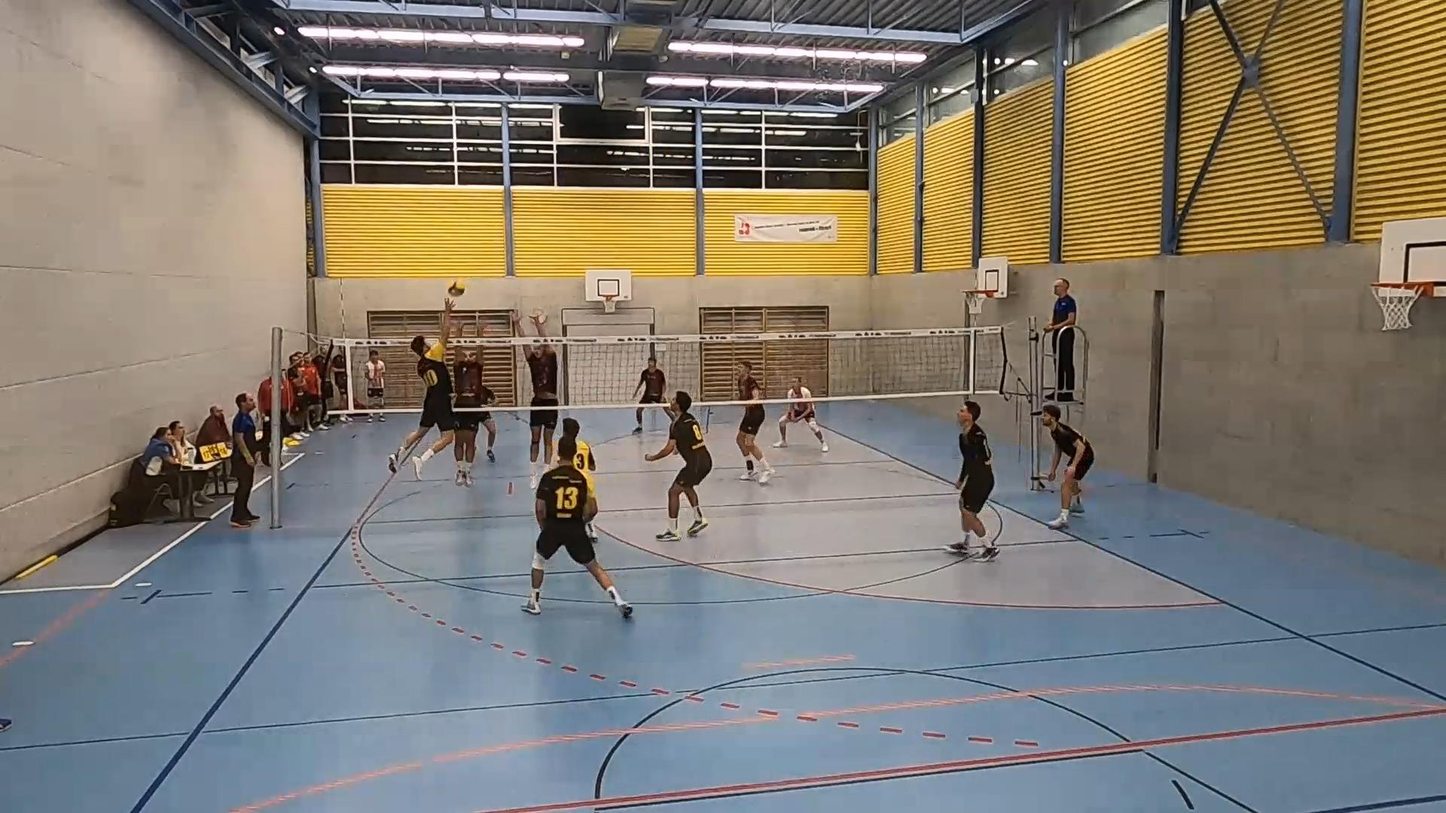attacco: (396, 300, 495, 483)
muro: (508, 306, 564, 490), (446, 317, 490, 491)
